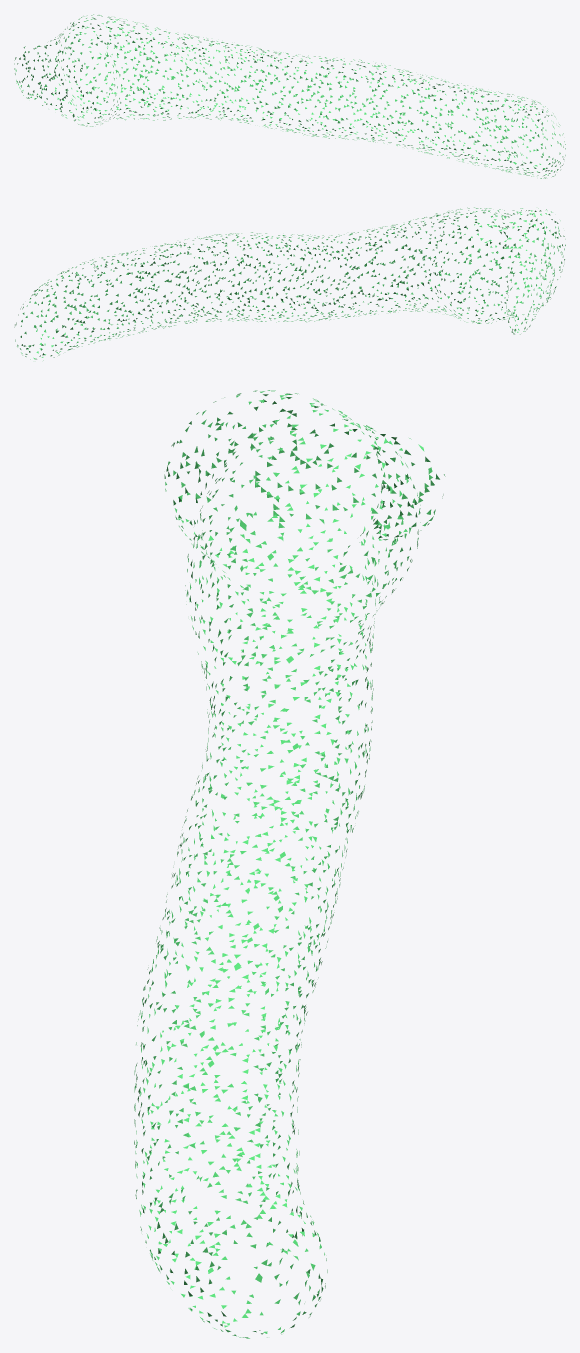
The model's file is morph_020.glb.
3 views of the same model, one above another, from view 1: azimuth 30°, elevation 25°; view 2: azimuth 150°, elevation 25°; view 3: azimuth 270°, elevation 25° (orthographic). The views are drawn at different scales.
Size of the model in its own units: 132 by 63.15 by 35.52.
